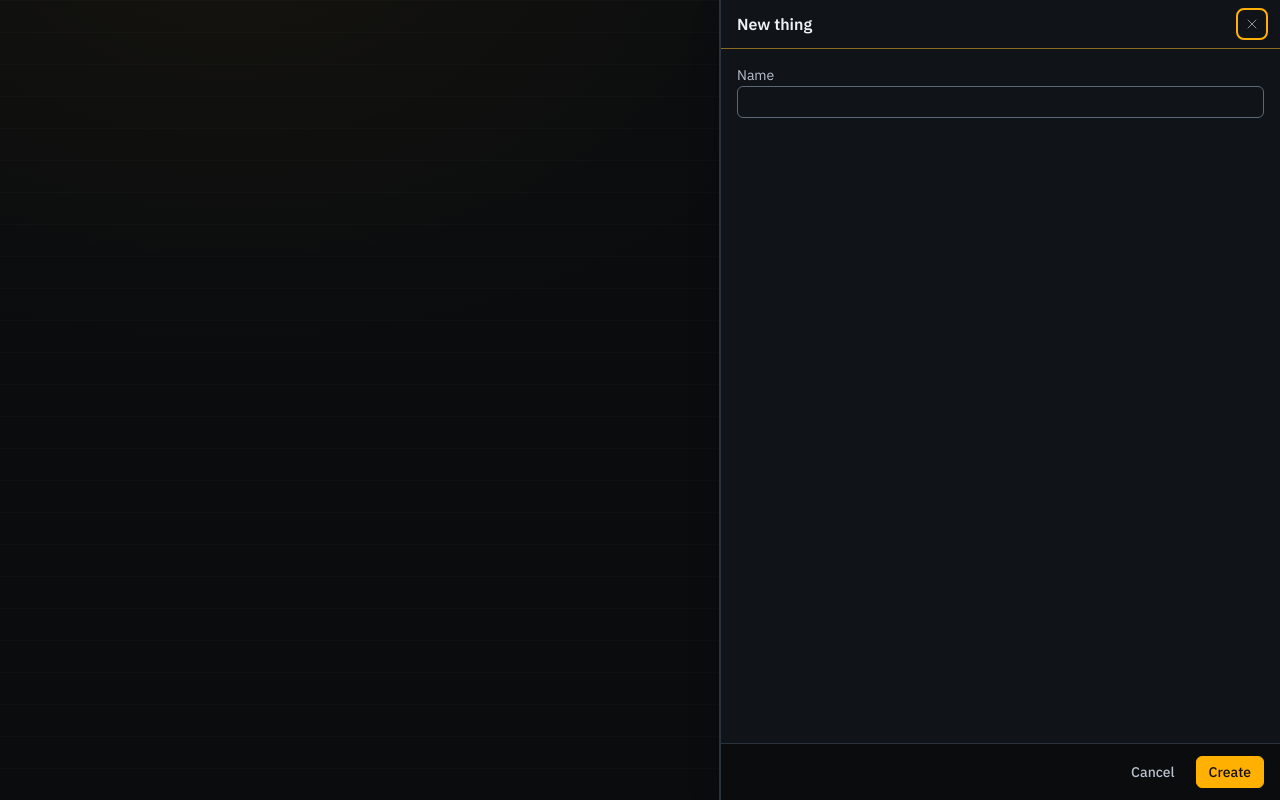
Test: EditorDrawer › posts the mapped body, toasts success, and closes on Create
In the field labelled "Name": (1000, 102) [738, 92, 1263, 112], type "alpha"
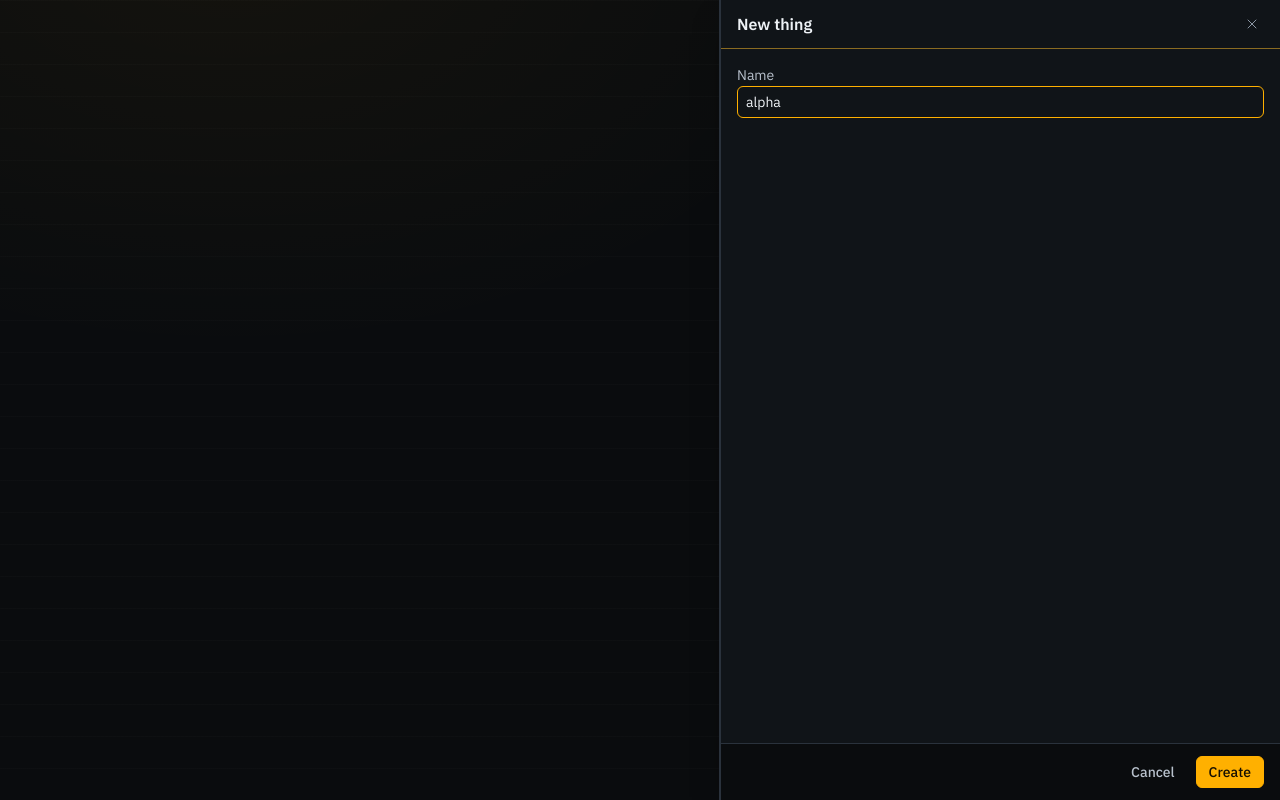
Click the button "Create": (1230, 772) [1196, 756, 1264, 788]
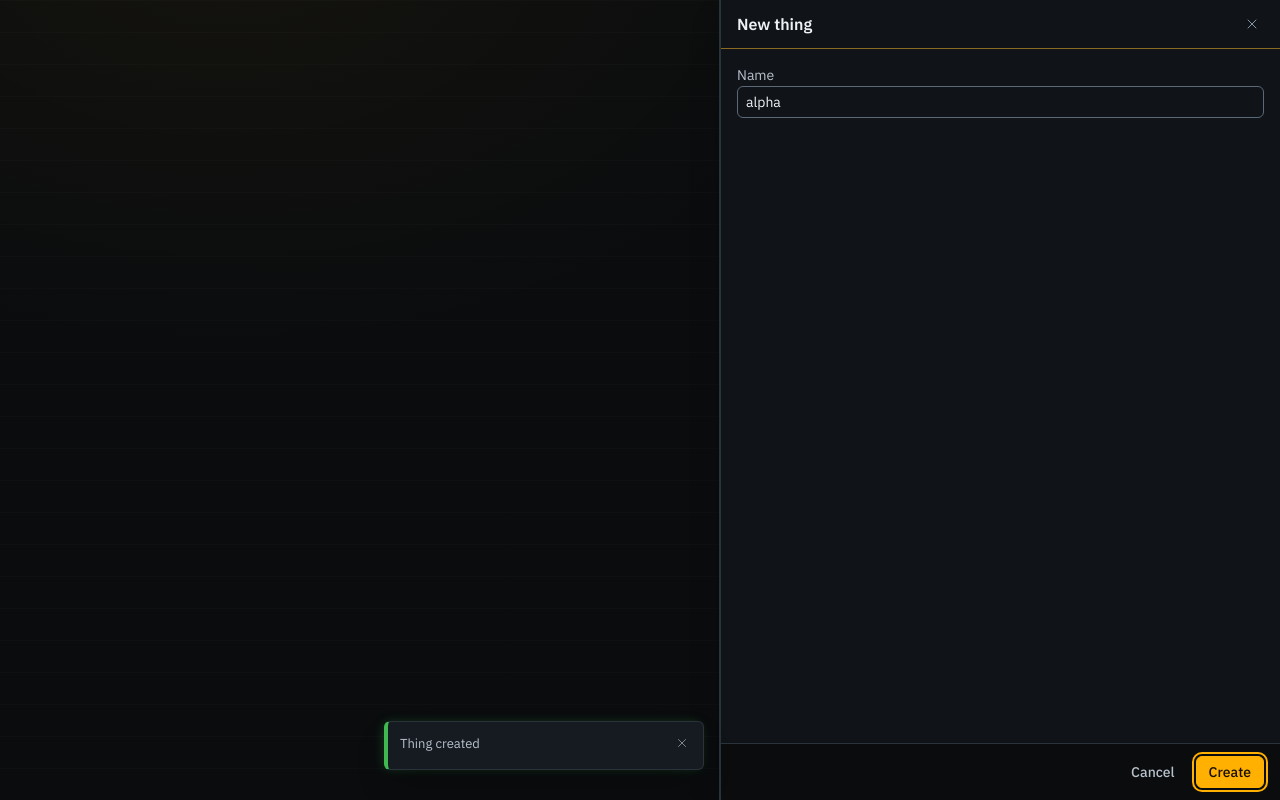
Expected: the text "Thing created" is shown, [400, 734, 480, 752]
